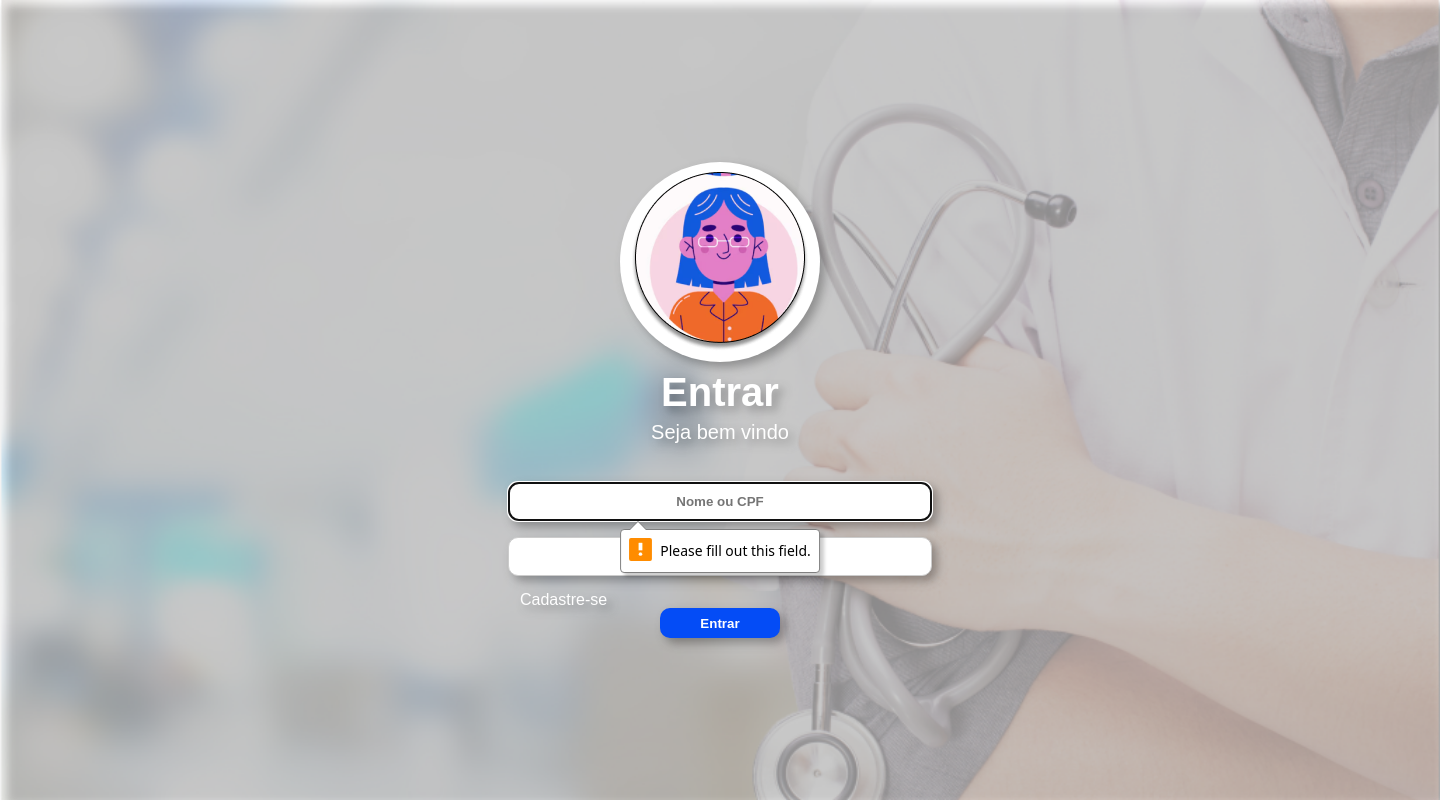
Test: Login Request Error Password › should login successfully with valid credentials
Note: Digite um email e senha válidos
Type "Thais Souza" into the field named "username".
click(720, 502); type("Thais Souza")  # box x1=508 y1=482 x2=932 y2=521
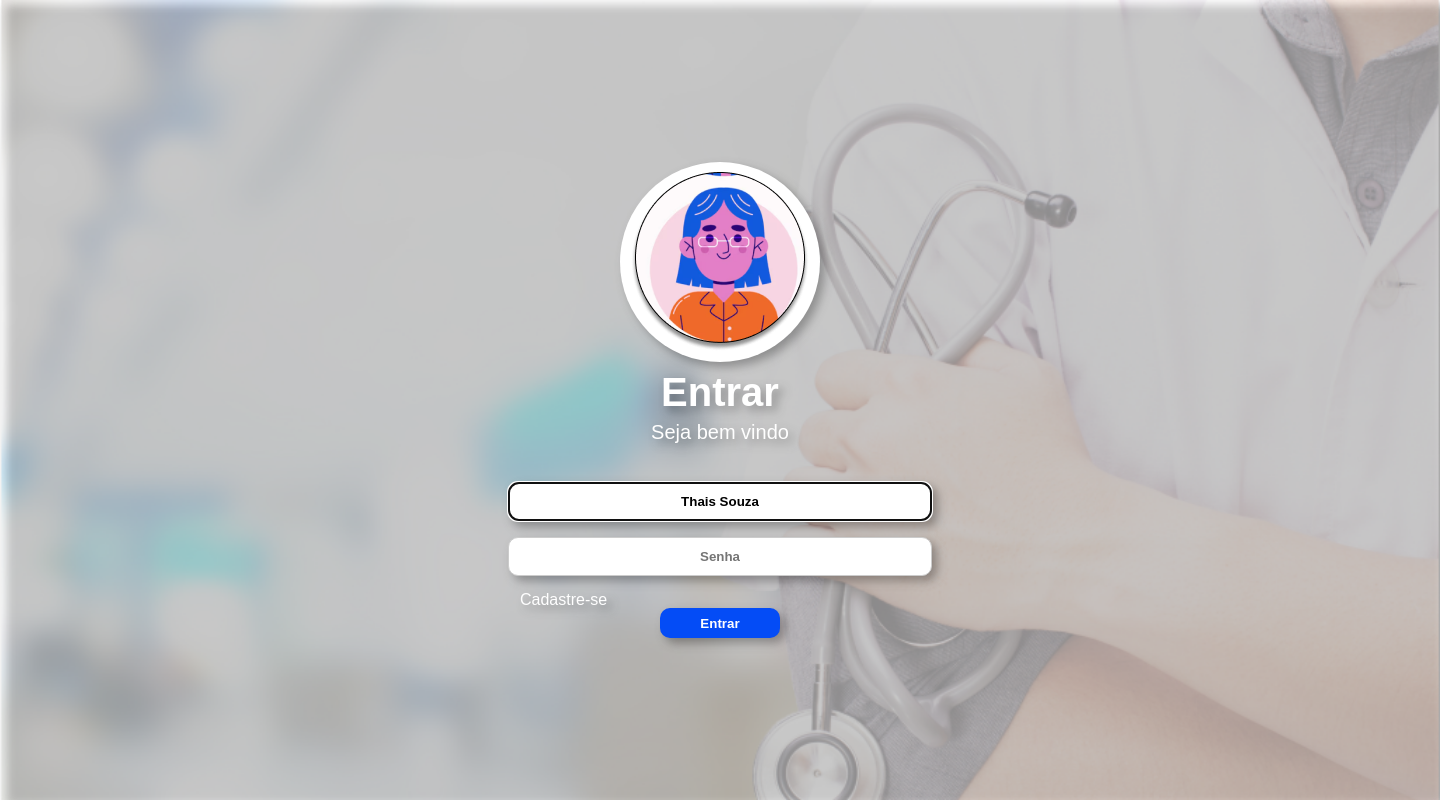
Type "test1235" into the password field named "senha".
click(720, 557); type("test1235")  # box x1=508 y1=537 x2=932 y2=576
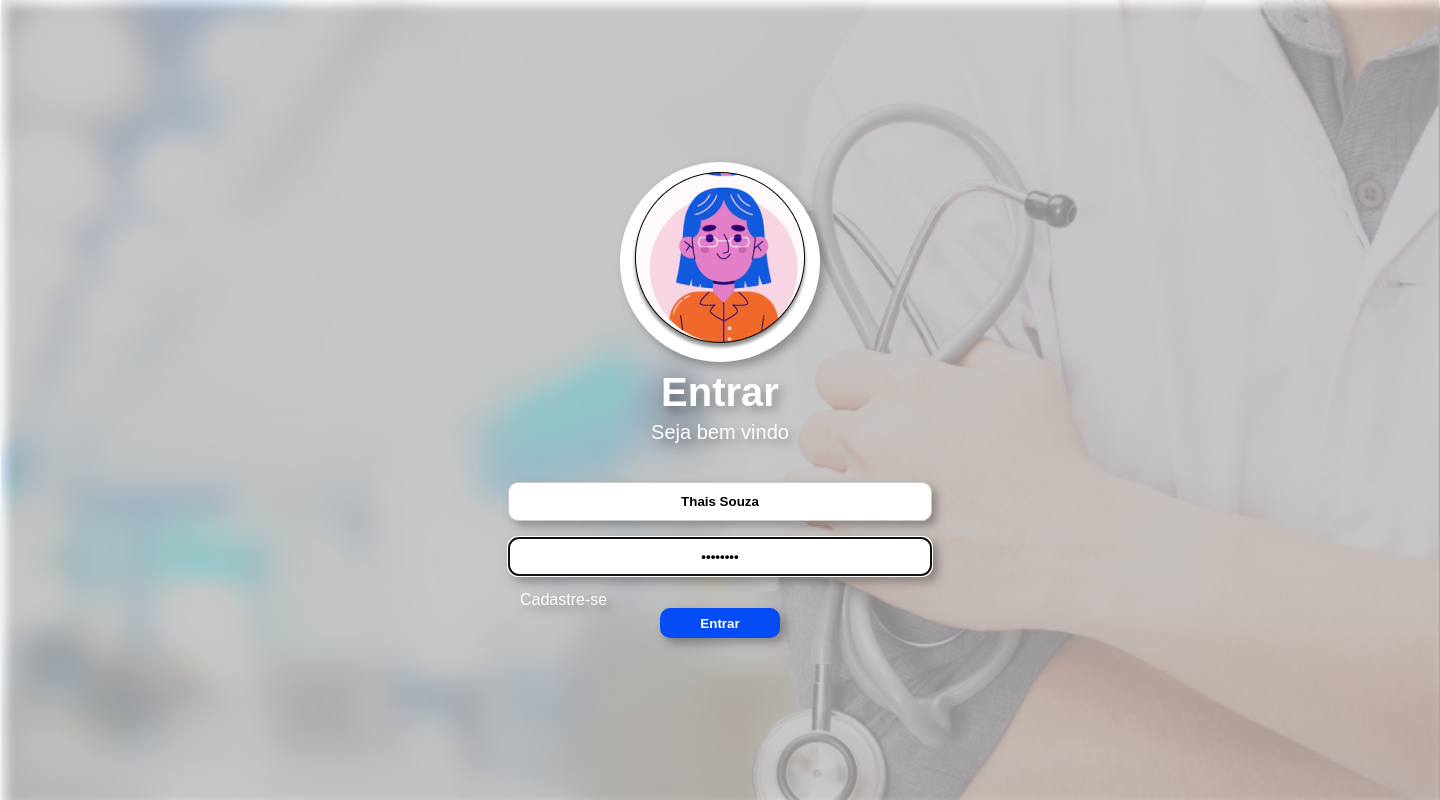
Note: Clique no botão de login
Click the button named "buttonSend".
click(720, 623)  # box x1=660 y1=608 x2=780 y2=638
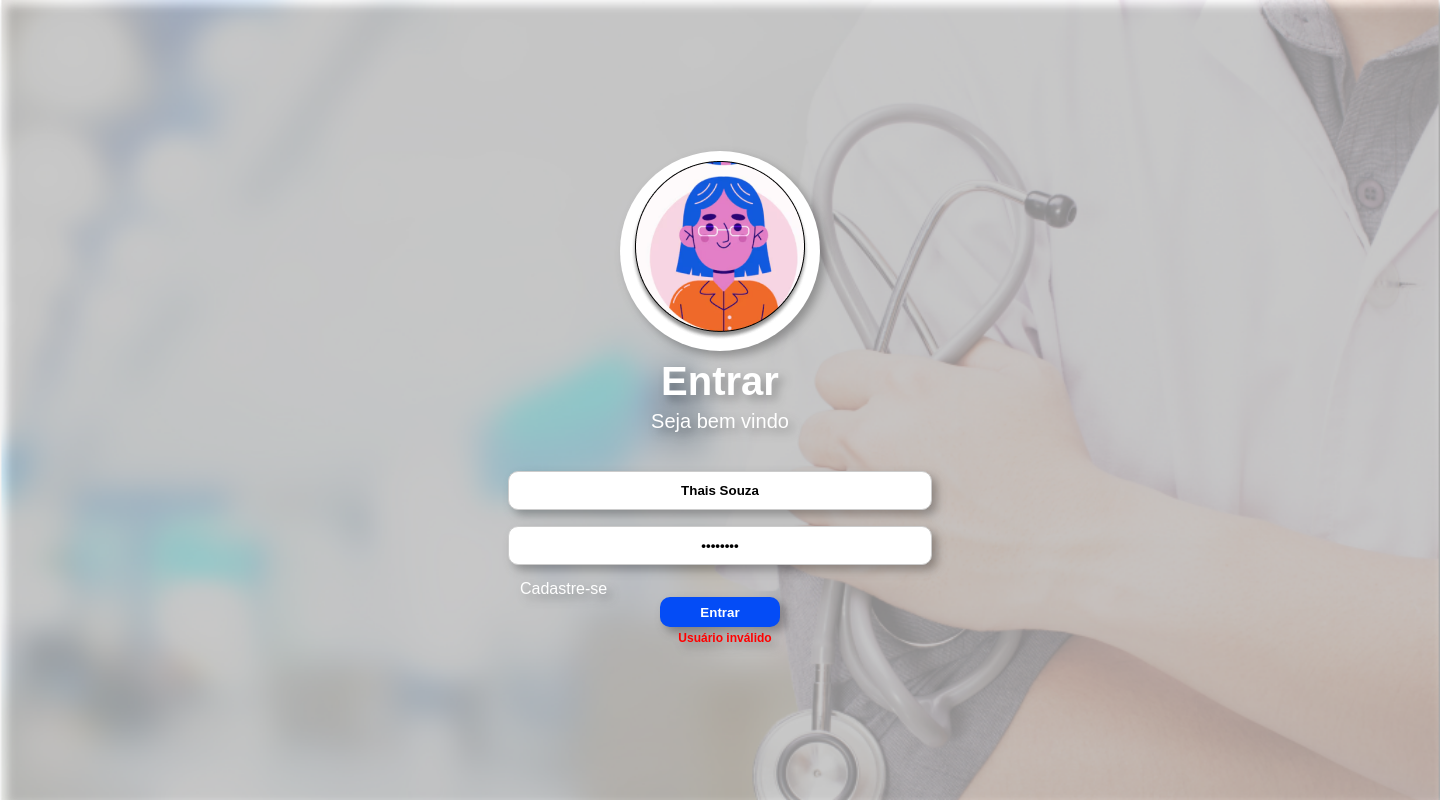
Check: the text with id "labelError" reads "Usuário inválido", box x1=678 y1=632 x2=771 y2=644
